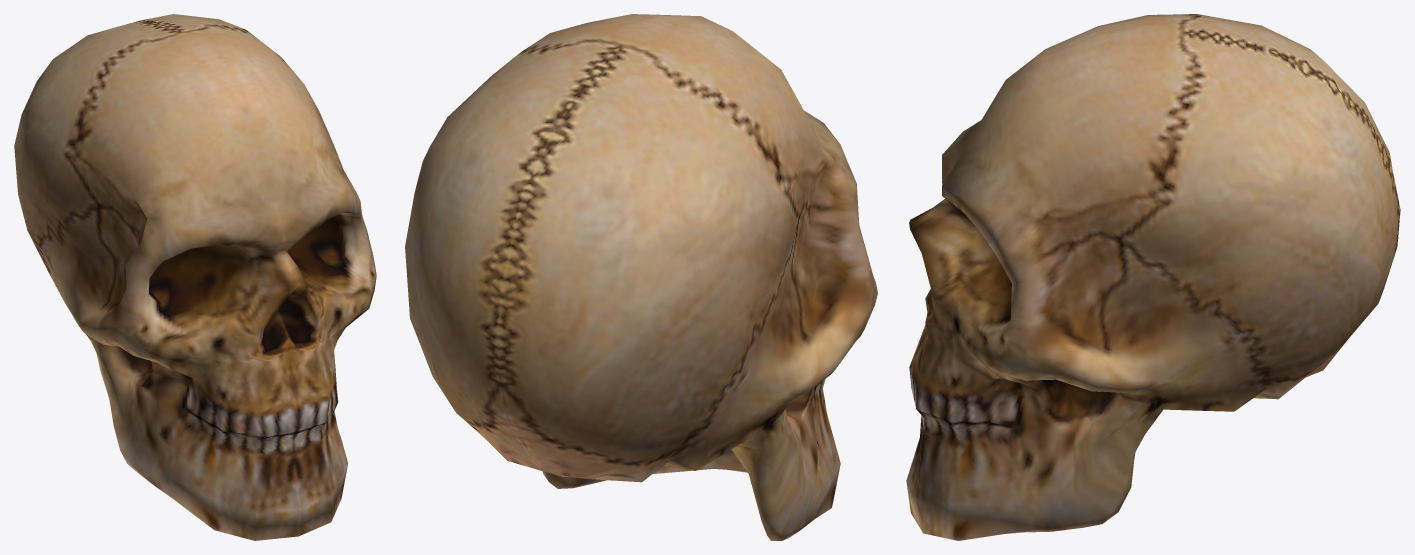
The model's file is Skull.FBX.
3 views of the same model, side by side, from view 1: azimuth 30°, elevation 25°; view 2: azimuth 150°, elevation 25°; view 3: azimuth 270°, elevation 25° (orthographic). The views are drawn at different scales.
Visible parts, largest first — view 1: Skull; view 2: Skull; view 3: Skull.
Part boxes in pixels (x1,y1,x2,y2): Skull: (14,14,376,540); Skull: (405,14,877,540); Skull: (906,14,1400,540).
Size of the model in its own units: 17.15 by 24.7 by 26.62.
